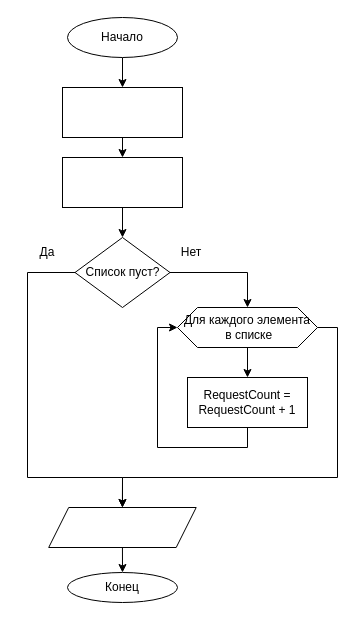
This 363x620 diagram has some shape labels left out. Each missing label, with the centre of its shape:
"Вывод RequestCount" goes at point 122,527.
"Инициализация переменной RequestCount = 0" goes at point 122,112.
"Получение списка заявок" goes at point 122,182.
